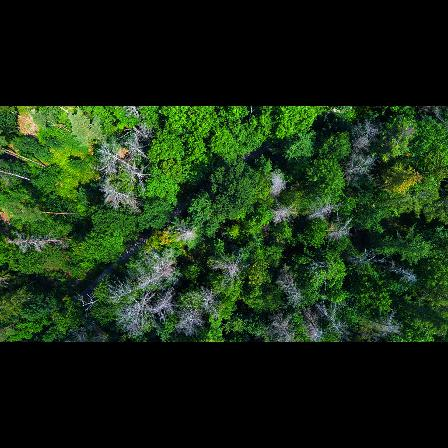Dead: (111, 271, 165, 298), (116, 294, 150, 333), (4, 234, 73, 252), (346, 121, 381, 156), (341, 153, 380, 184), (372, 260, 418, 286), (213, 253, 249, 286), (319, 303, 350, 339), (100, 185, 139, 211), (274, 268, 301, 302), (346, 248, 396, 266), (323, 214, 357, 240), (308, 195, 342, 220), (266, 314, 296, 342), (173, 305, 204, 332), (170, 224, 205, 245), (270, 200, 297, 227), (301, 312, 325, 342), (99, 149, 136, 168), (75, 291, 99, 315), (268, 167, 287, 196), (150, 293, 174, 313), (132, 124, 154, 144), (154, 257, 177, 270)
